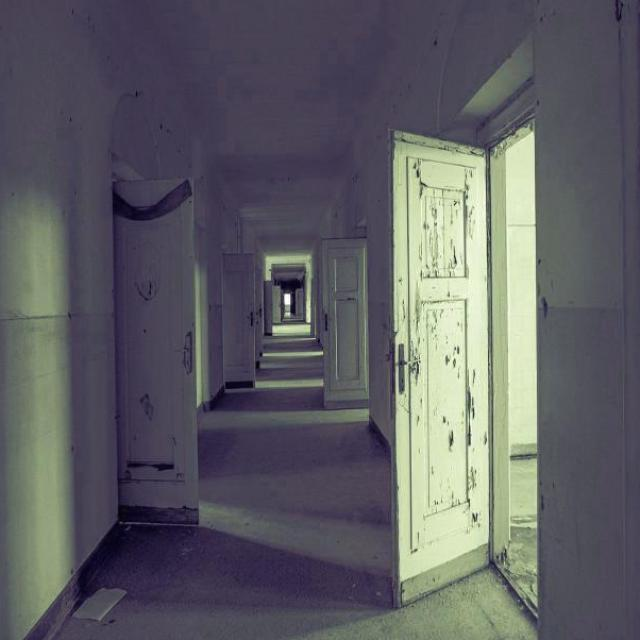door: (390, 129, 491, 605), (101, 180, 201, 534), (322, 225, 371, 416), (212, 238, 260, 396)
